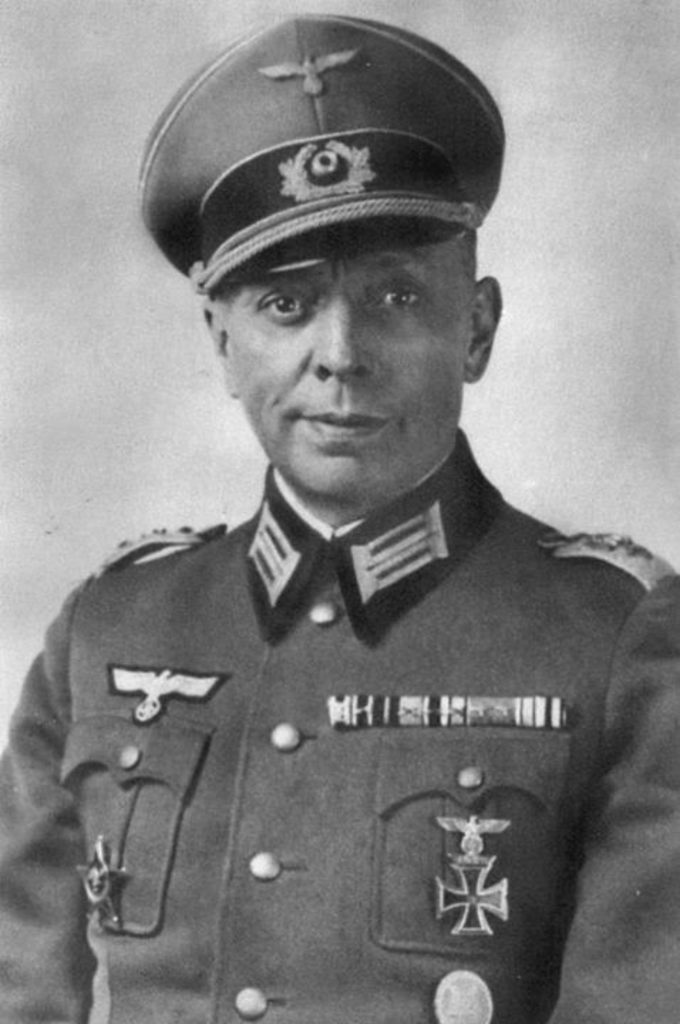Person: (0, 16, 680, 1023)
